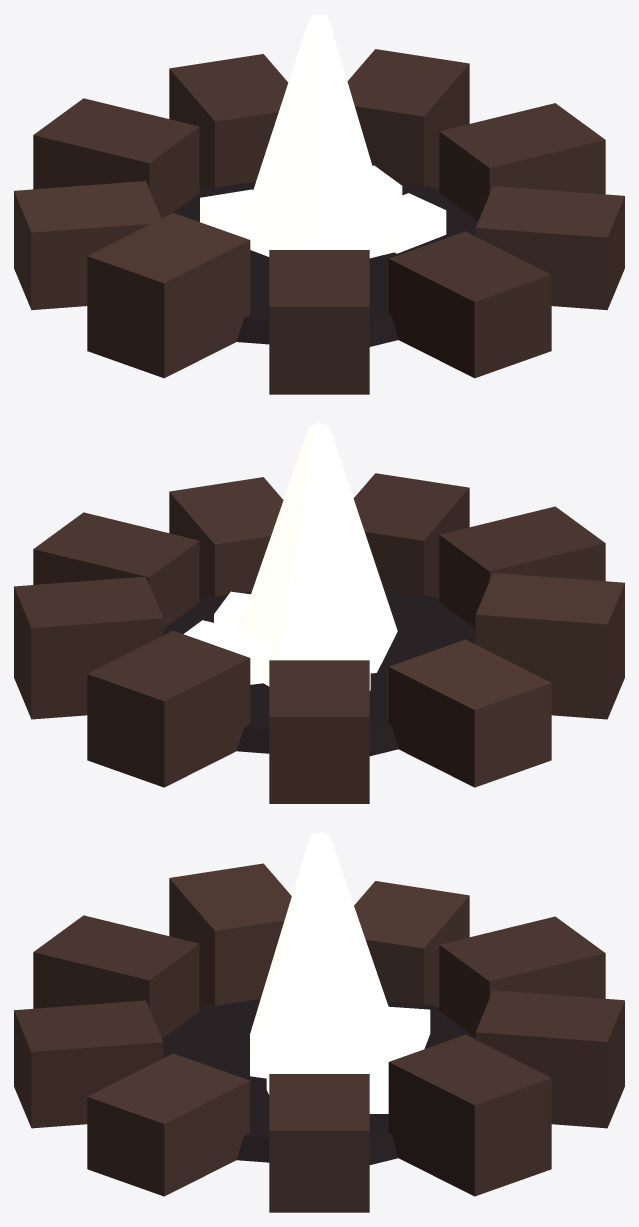
File: fire_pit.glb
The picture shows the model from 3 angles, top to bottom: view 1: azimuth 30°, elevation 25°; view 2: azimuth 150°, elevation 25°; view 3: azimuth 270°, elevation 25°; orthographic projection.
Visible parts, largest first — view 1: fire_pit, Flame; view 2: fire_pit, Flame; view 3: fire_pit, Flame.
Boxes of the visible parts, box(x1,y1,x2,y2) form: fire_pit: box(14, 49, 624, 394); Flame: box(238, 14, 397, 258); fire_pit: box(14, 473, 624, 803); Flame: box(239, 423, 397, 673); fire_pit: box(14, 863, 624, 1212); Flame: box(250, 832, 400, 1078).
Bounding box in the file's own units: 2.7 × 1.23 × 2.74.
